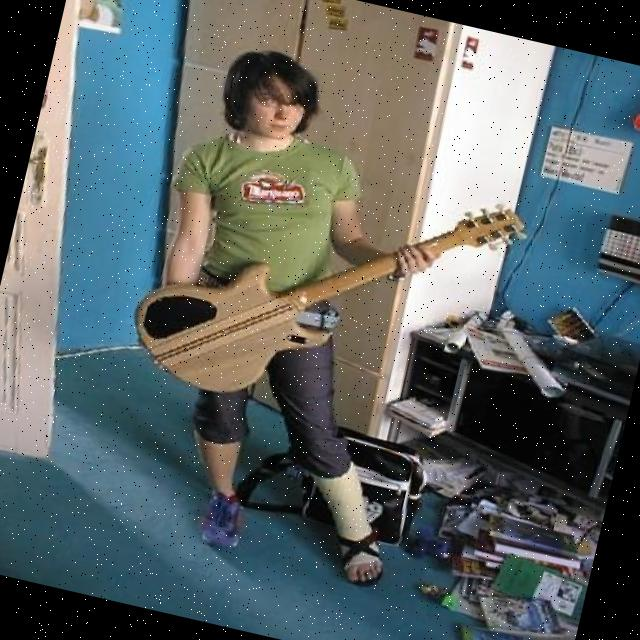guitar: (120, 126, 541, 452)
